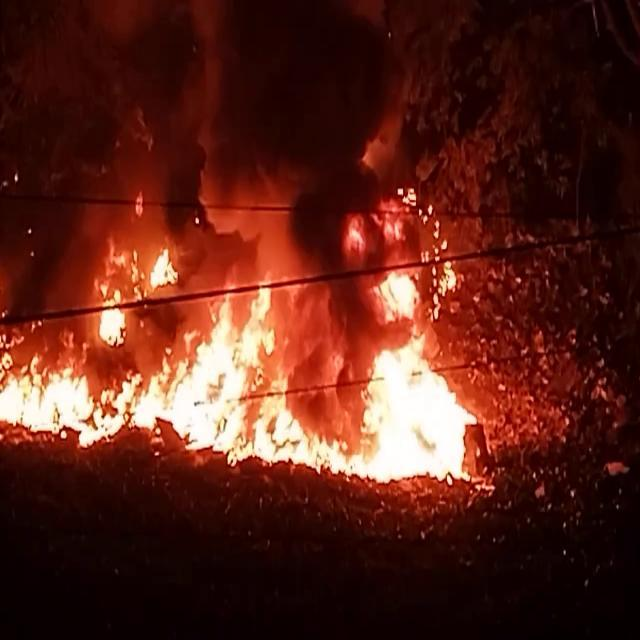Fire: (0, 236, 486, 476)
Smoke: (1, 0, 363, 286)
